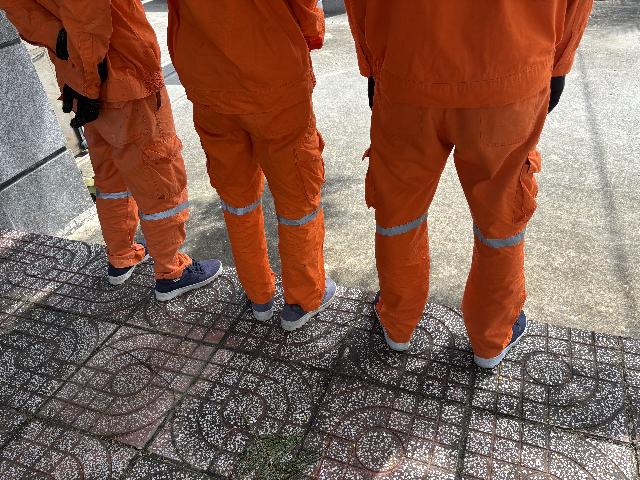gloves: (50, 26, 115, 88), (54, 82, 111, 134)
shoes: (469, 294, 534, 372), (366, 285, 420, 361), (279, 270, 343, 331), (144, 248, 224, 295), (96, 219, 149, 281), (240, 264, 275, 330)
